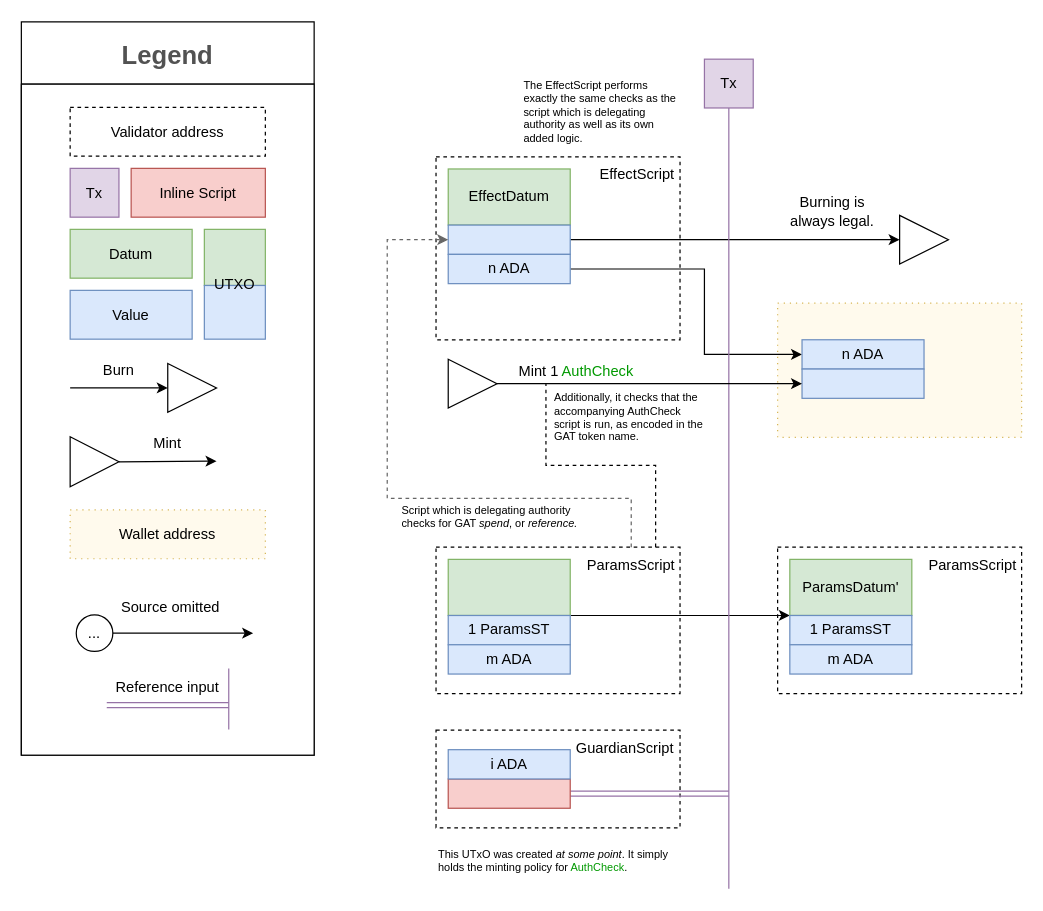
Some shapes in this 1043 by 911 pixel diagram are drawn without their labels. Each missing label, with the centre of its shape:
1 AuthCheck: the point at 862,383
1 GAT: the point at 508,239
ACScript: the point at 508,793
ParamsDatum: the point at 508,586
